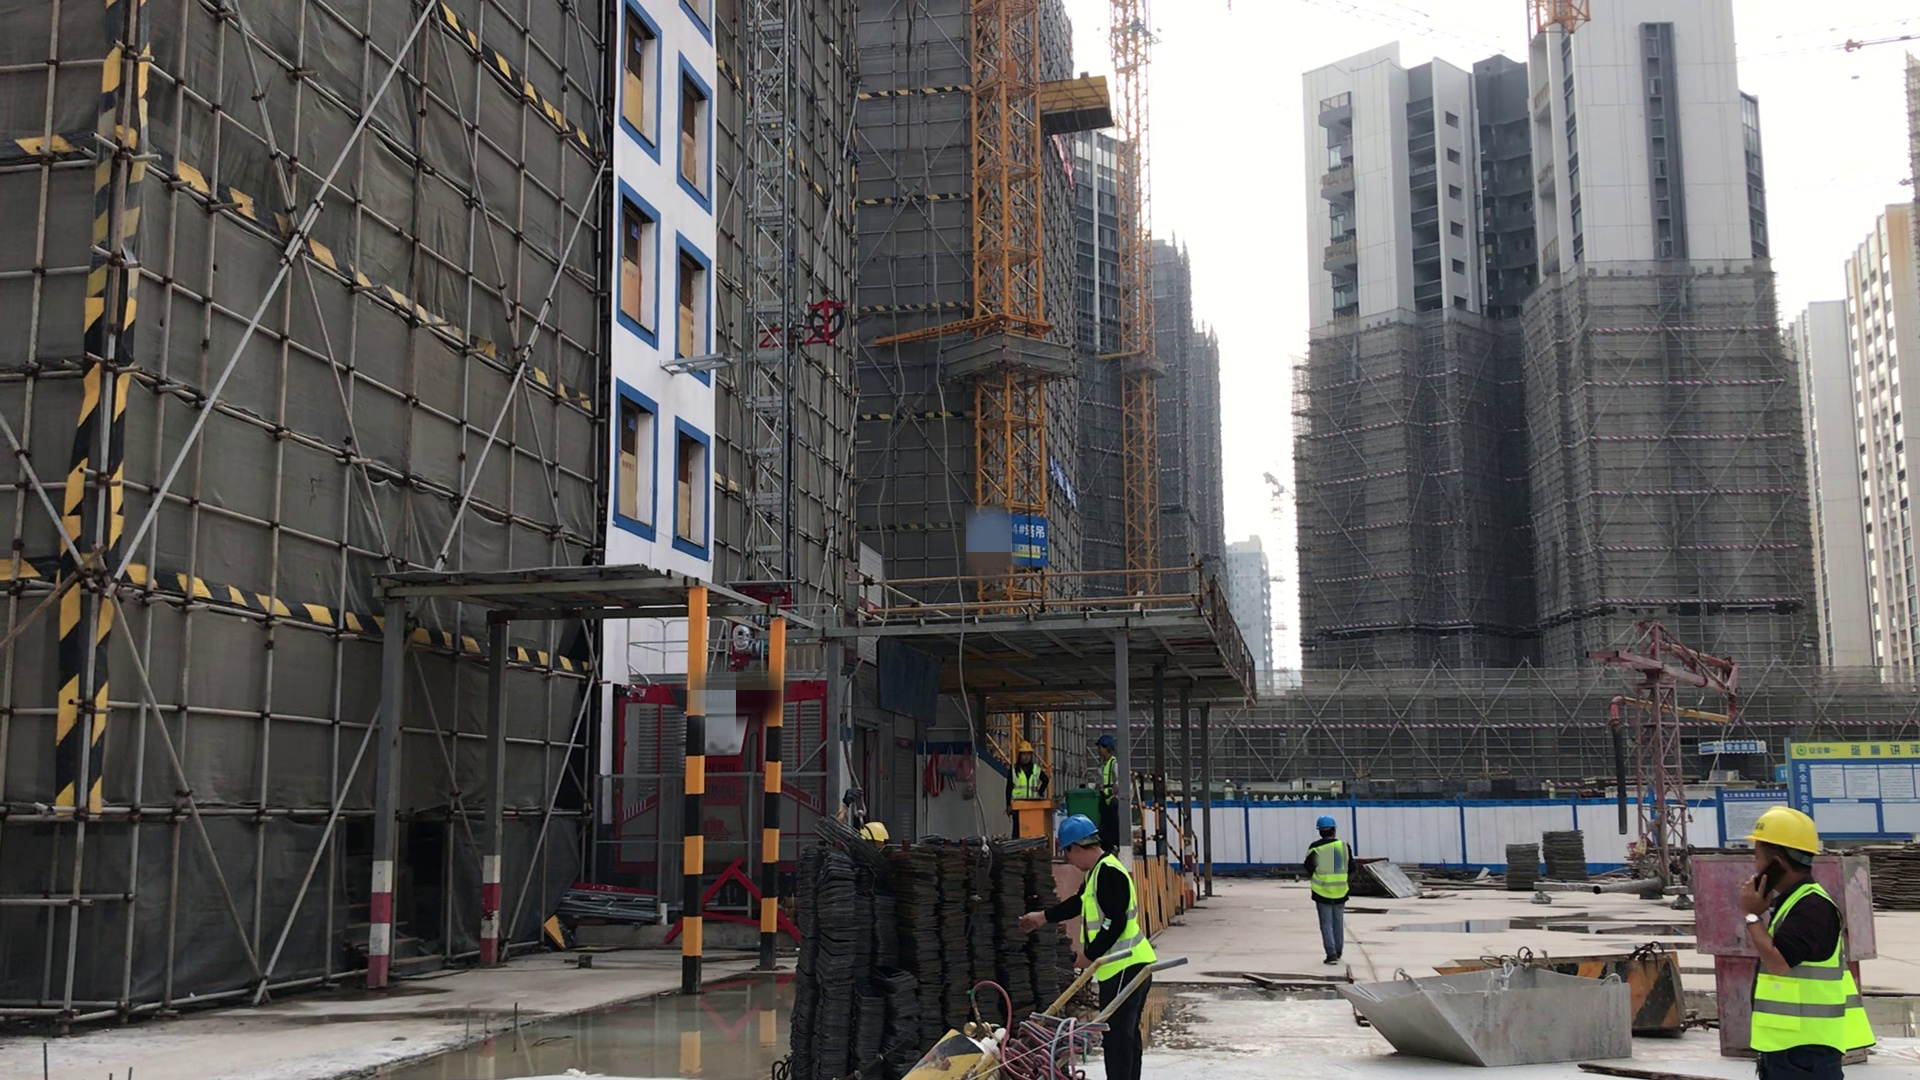helmet: (1744, 807, 1828, 860), (1054, 814, 1101, 848), (864, 822, 889, 843), (1310, 816, 1338, 833), (1097, 729, 1117, 749), (1014, 737, 1037, 754)
person: (1734, 807, 1887, 1080), (1032, 813, 1155, 1080), (1299, 811, 1359, 965), (1086, 722, 1130, 813), (1007, 735, 1049, 807)
vest: (1755, 892, 1881, 1061), (1071, 855, 1153, 979), (1310, 840, 1351, 902), (1009, 765, 1044, 802), (1099, 758, 1124, 804)
